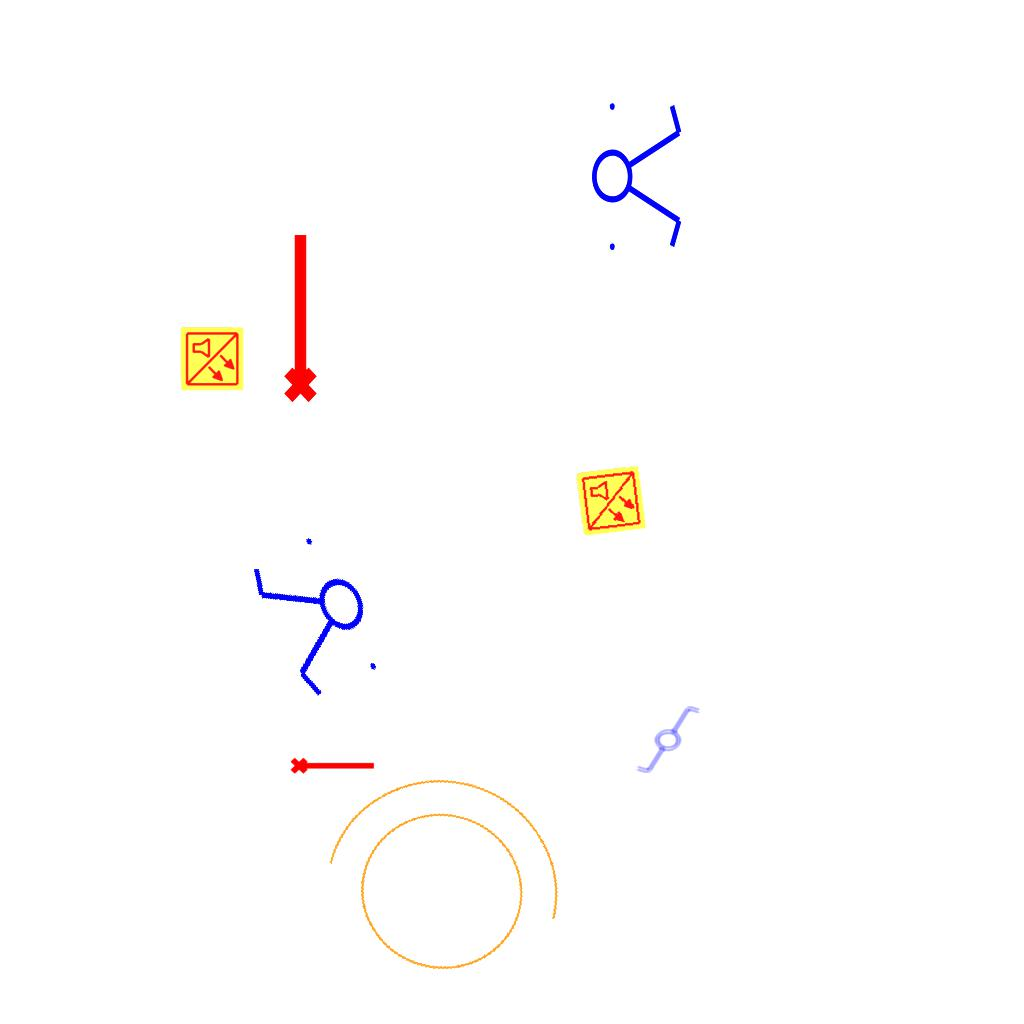ASR_Ansaugoeffnung: (275, 229, 321, 405), (289, 753, 377, 776)
OKW_Multisensormelder_(Kombination_optischer_Rauch-Kahlenmonoxid_Waerme-Melder): (574, 464, 648, 538), (179, 326, 245, 392)
Scheinwerfer_fuer_Alarmbeleuchtung: (282, 739, 594, 1022)
Serienschalter: (238, 520, 400, 714), (590, 91, 686, 259)
Wechselschalter: (625, 703, 703, 775)
